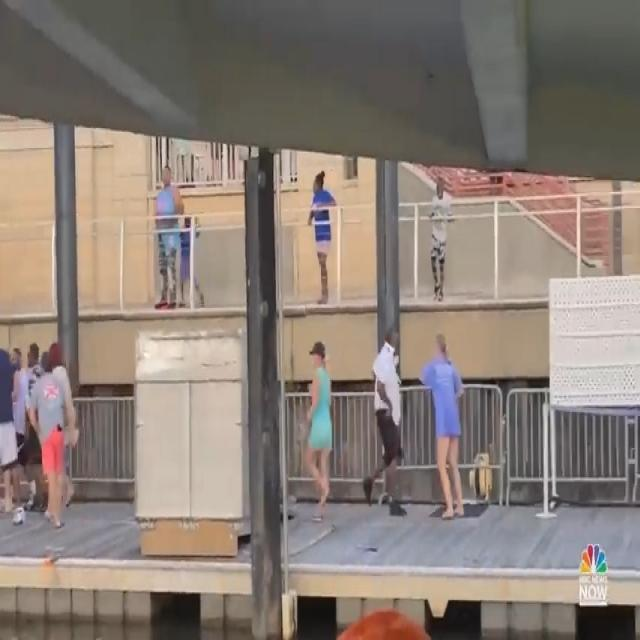non-fight: (300, 322, 467, 521), (0, 334, 86, 532)
